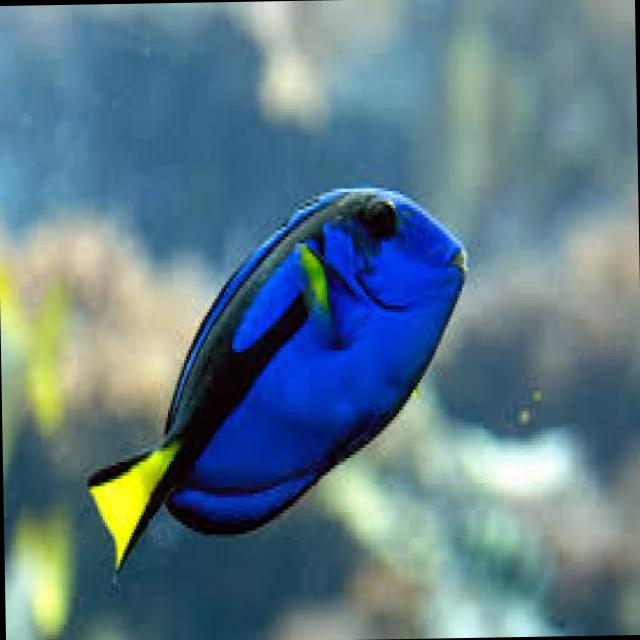BlueTang: (80, 179, 474, 585)
